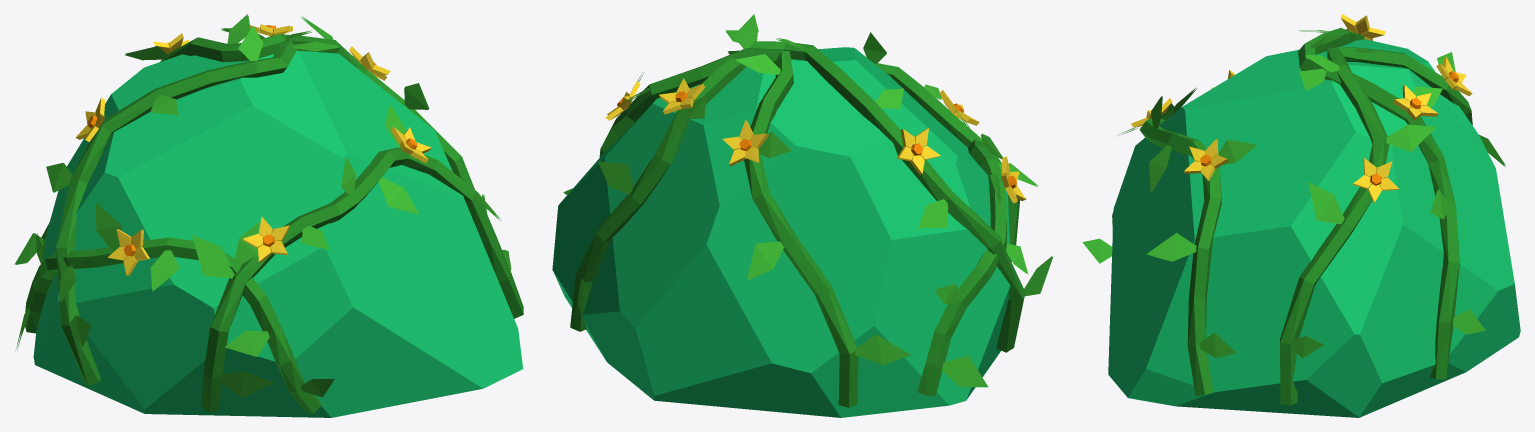
Rendered from VineBoulder.fbx.
3 renders of one model, left to right at view 1: azimuth 30°, elevation 25°; view 2: azimuth 150°, elevation 25°; view 3: azimuth 270°, elevation 25°, orthographic. The views are drawn at different scales.
Visible parts, largest first — view 1: VineBoulder, VineBoulder_Vines, VineBoulder_Leaves, VineBoulder_Flowers_Petals, VineBoulder_Flowers_Centers; view 2: VineBoulder, VineBoulder_Vines, VineBoulder_Leaves, VineBoulder_Flowers_Petals, VineBoulder_Flowers_Centers; view 3: VineBoulder, VineBoulder_Vines, VineBoulder_Leaves, VineBoulder_Flowers_Petals, VineBoulder_Flowers_Centers.
Boxes of the visible parts, box(x1,y1,x2,y2) form: VineBoulder: box(33, 50, 523, 417); VineBoulder_Vines: box(25, 34, 523, 413); VineBoulder_Leaves: box(14, 14, 511, 398); VineBoulder_Flowers_Petals: box(75, 24, 431, 275); VineBoulder_Flowers_Centers: box(87, 25, 417, 256); VineBoulder: box(552, 47, 1010, 417); VineBoulder_Vines: box(570, 41, 1025, 407); VineBoulder_Leaves: box(563, 14, 1053, 387); VineBoulder_Flowers_Petals: box(605, 78, 1026, 203); VineBoulder_Flowers_Centers: box(617, 91, 1016, 188); VineBoulder: box(1108, 39, 1520, 417); VineBoulder_Vines: box(1112, 28, 1472, 405); VineBoulder_Leaves: box(1082, 30, 1506, 358); VineBoulder_Flowers_Petals: box(1131, 14, 1472, 203); VineBoulder_Flowers_Centers: box(1200, 71, 1458, 185).
Size of the model in its own units: 14.4 by 9.27 by 12.76.
